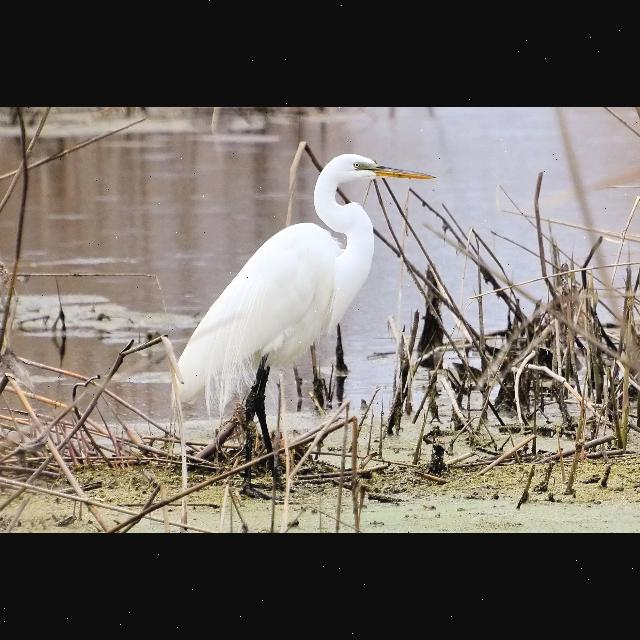egret: (153, 152, 437, 478)
